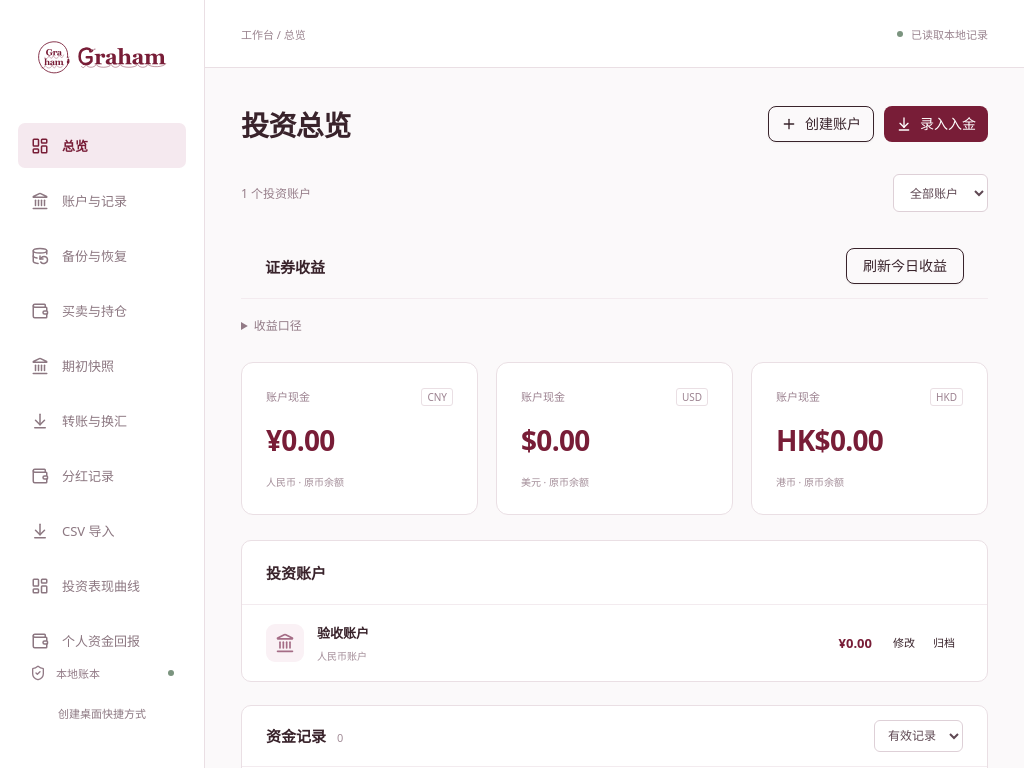
it: 批量彻底删除失败保留范围，刷新后重新选择且不显示旧撤回入口
This screenshot has width=1024, height=768.
Select "已删除" in the 2nd dropdown named "记录状态" at (918, 736), box [874,720,963,752]
(page scrolled)
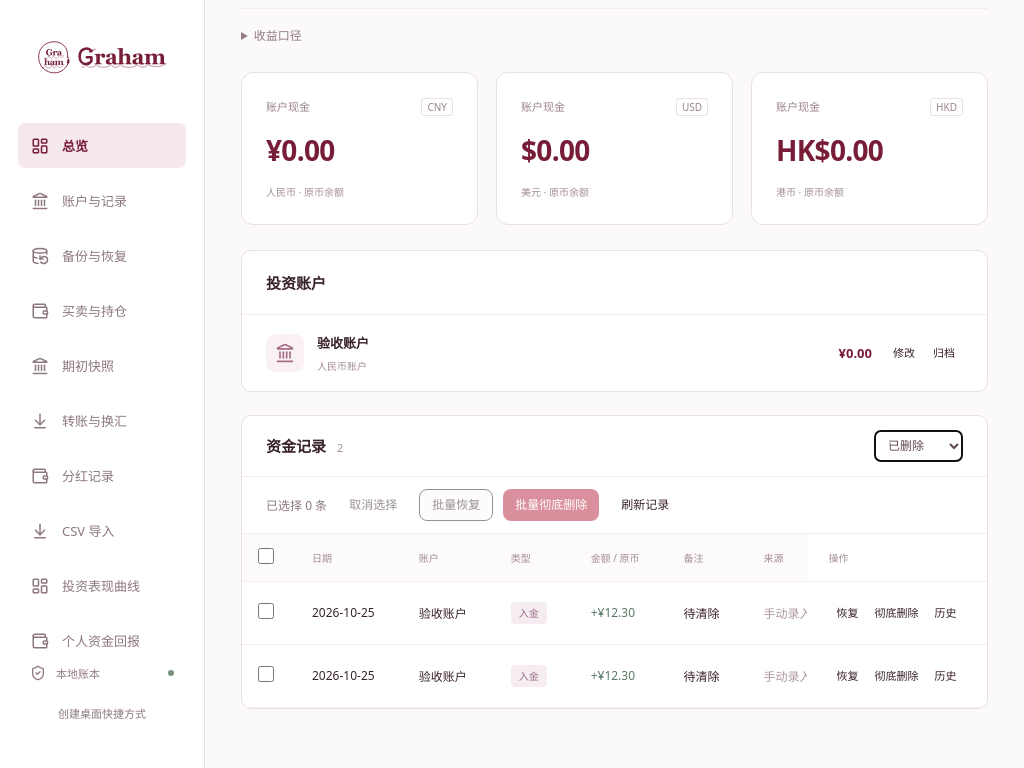
Click the checkbox named "全选当前筛选记录" at (266, 556), box [258,548,274,564]
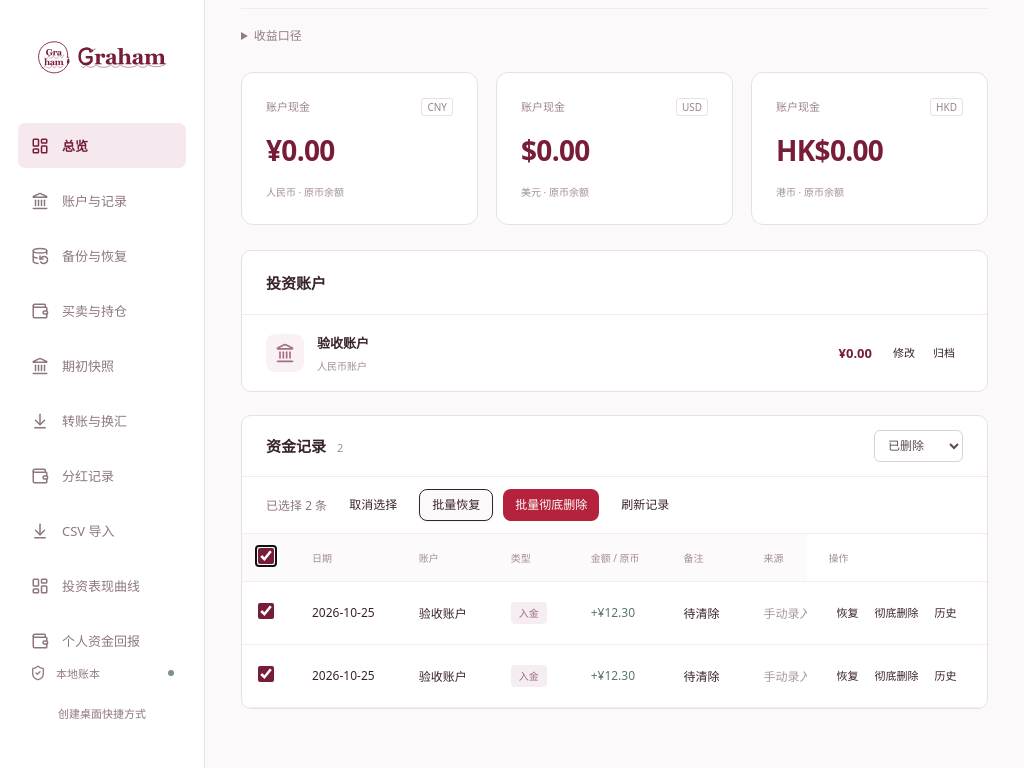
Click the button "批量彻底删除" at (551, 505), box [503,489,599,521]
(page scrolled)
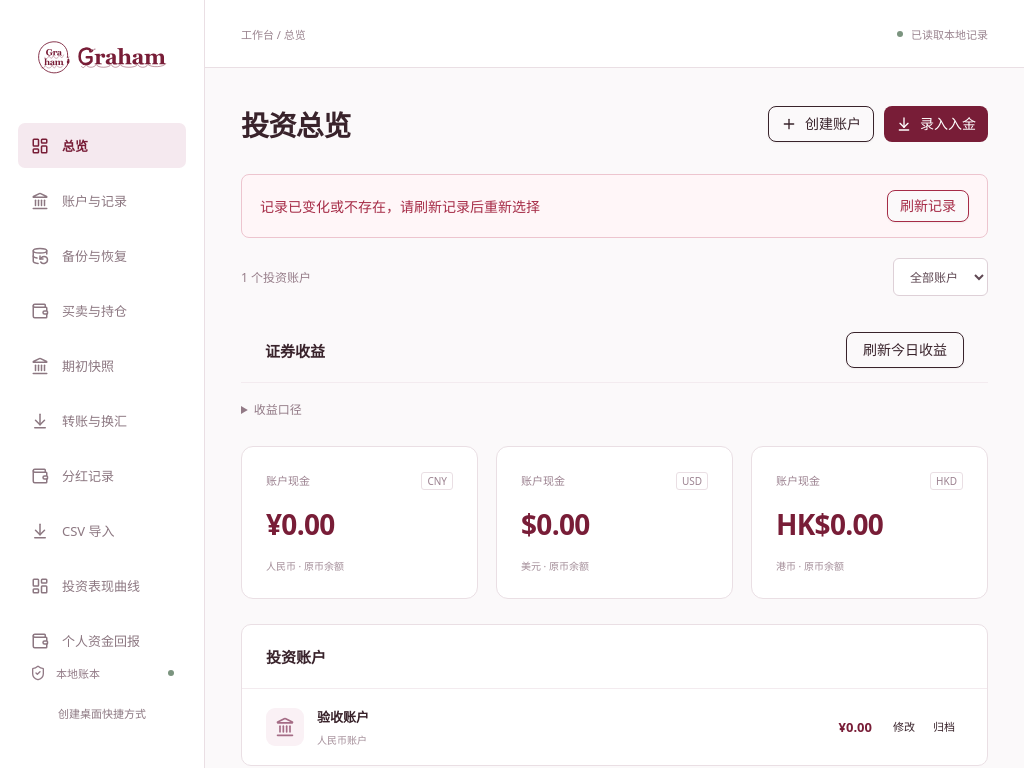
Expected: the message shows "记录已变化", [260,197,540,216]
Click the button "刷新记录" at (928, 206), box [887,190,969,222]
(page scrolled)
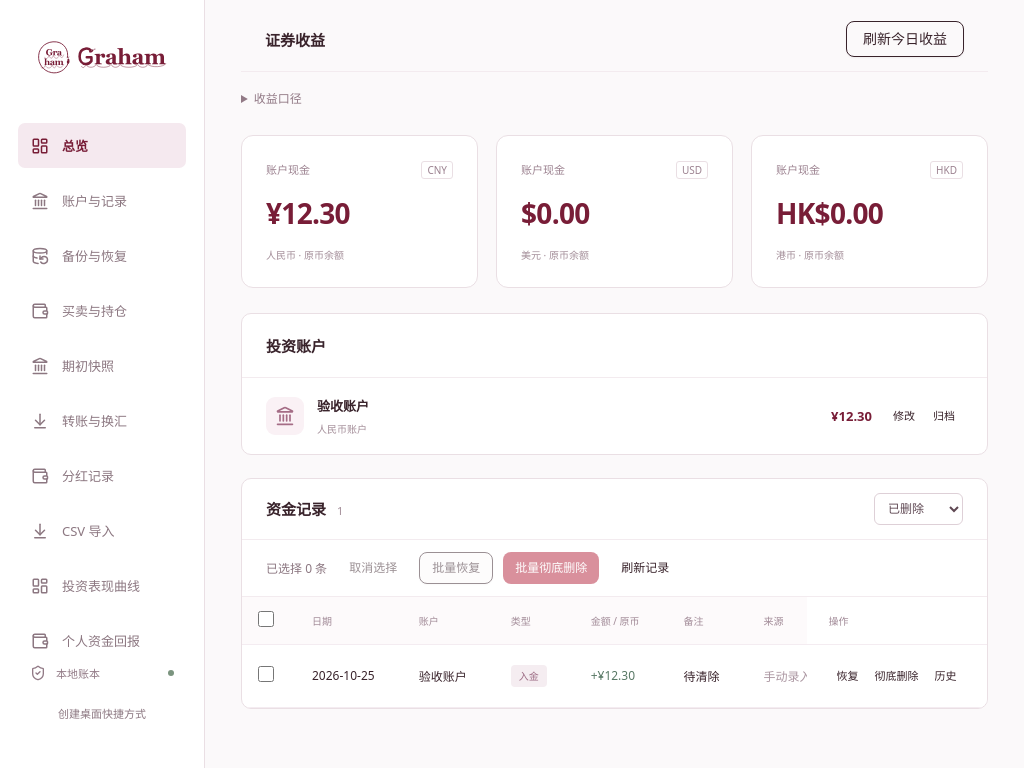
Expected: the text "已选择 0 条" is shown, [266,559,327,577]
Expected: the number of buttons named "恢复记录" is 1, [829,661,867,691]
